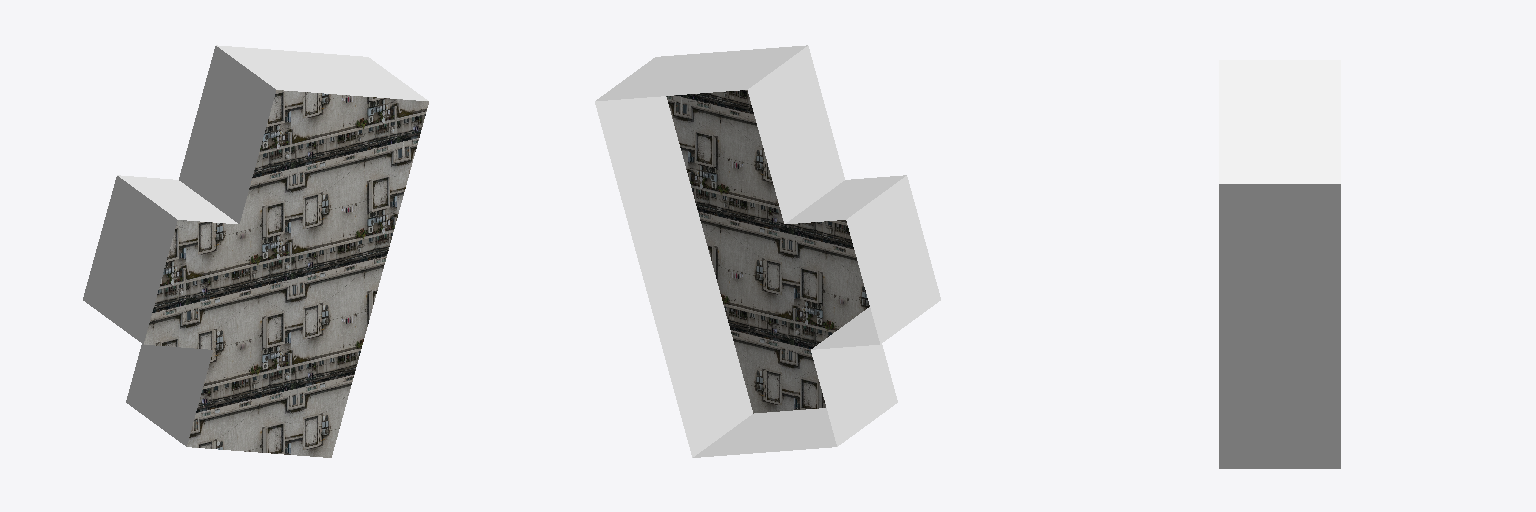
The picture shows the model from 3 angles: view 1: azimuth 30°, elevation 25°; view 2: azimuth 150°, elevation 25°; view 3: azimuth 270°, elevation 25°; orthographic projection.
Parts seen in each view (by area): view 1: Building; view 2: Building; view 3: Building.
Boxes of the visible parts, x1,y1,x2,y2 form: Building: [83, 45, 428, 457]; Building: [595, 45, 940, 457]; Building: [1219, 60, 1340, 468].
Size of the model in its own units: 32.49 by 41.46 by 12.
Materials: 2 (1 with a texture image).